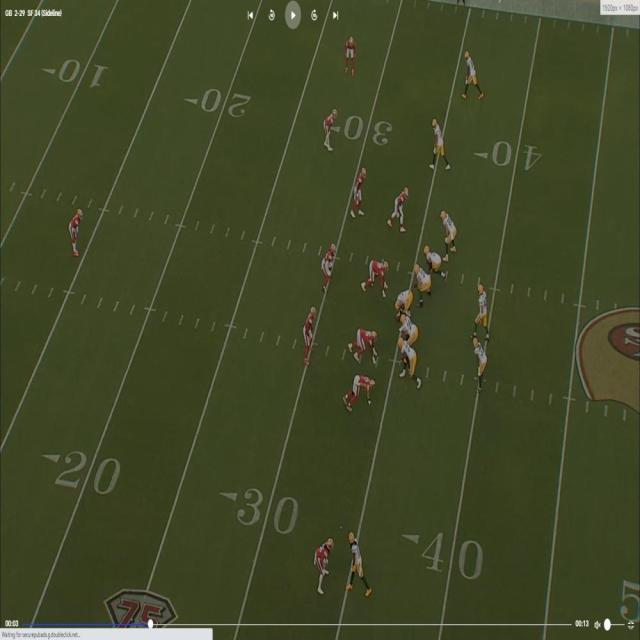center: (396, 289, 415, 316)
db: (317, 539, 334, 592), (322, 106, 337, 149), (354, 168, 366, 214), (72, 212, 84, 254), (347, 37, 356, 71)
lb: (303, 308, 315, 361), (325, 245, 336, 291)
qb: (476, 283, 488, 338)
skill: (348, 533, 368, 590), (438, 210, 456, 257), (466, 50, 482, 98), (431, 118, 446, 167), (474, 336, 485, 385)
